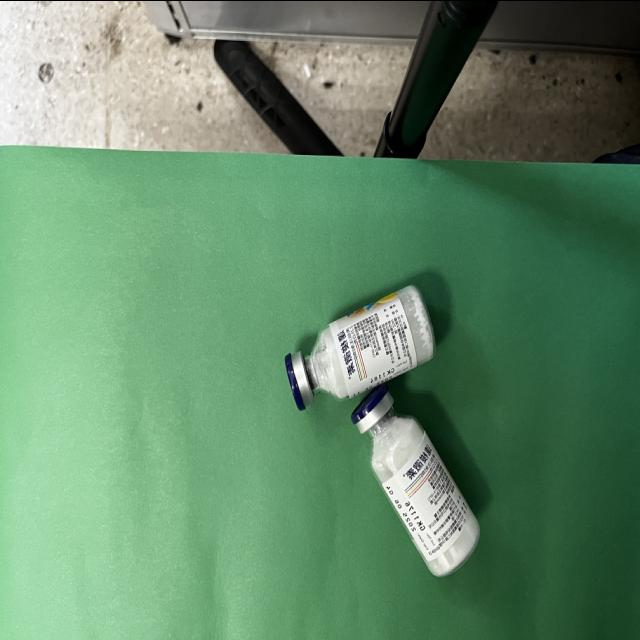Vials: (285, 286, 478, 575)
